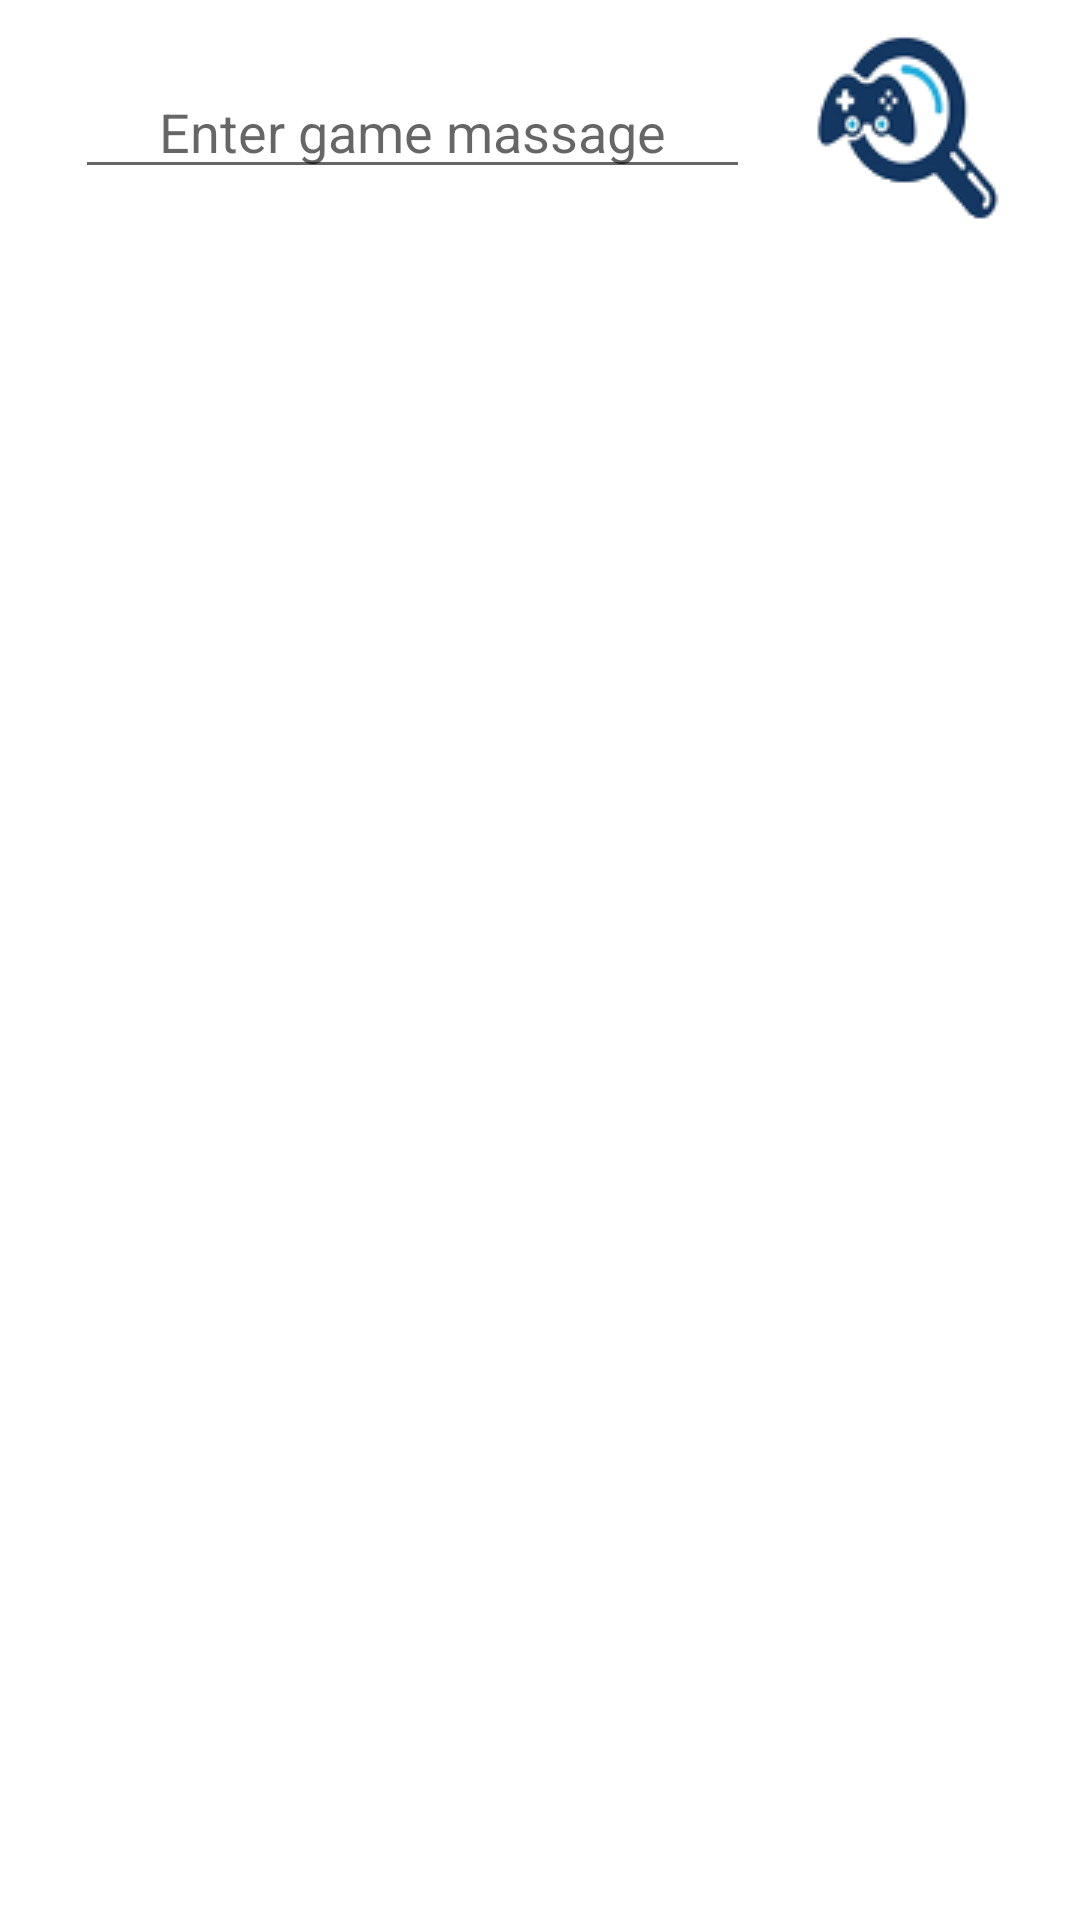

Icons on this 1080x1920 Android screen, each with its box as {"left": x1, "top": y1, "right": x2, "bottom": y2}:
searchbtnicon: {"left": 817, "top": 37, "right": 999, "bottom": 219}
